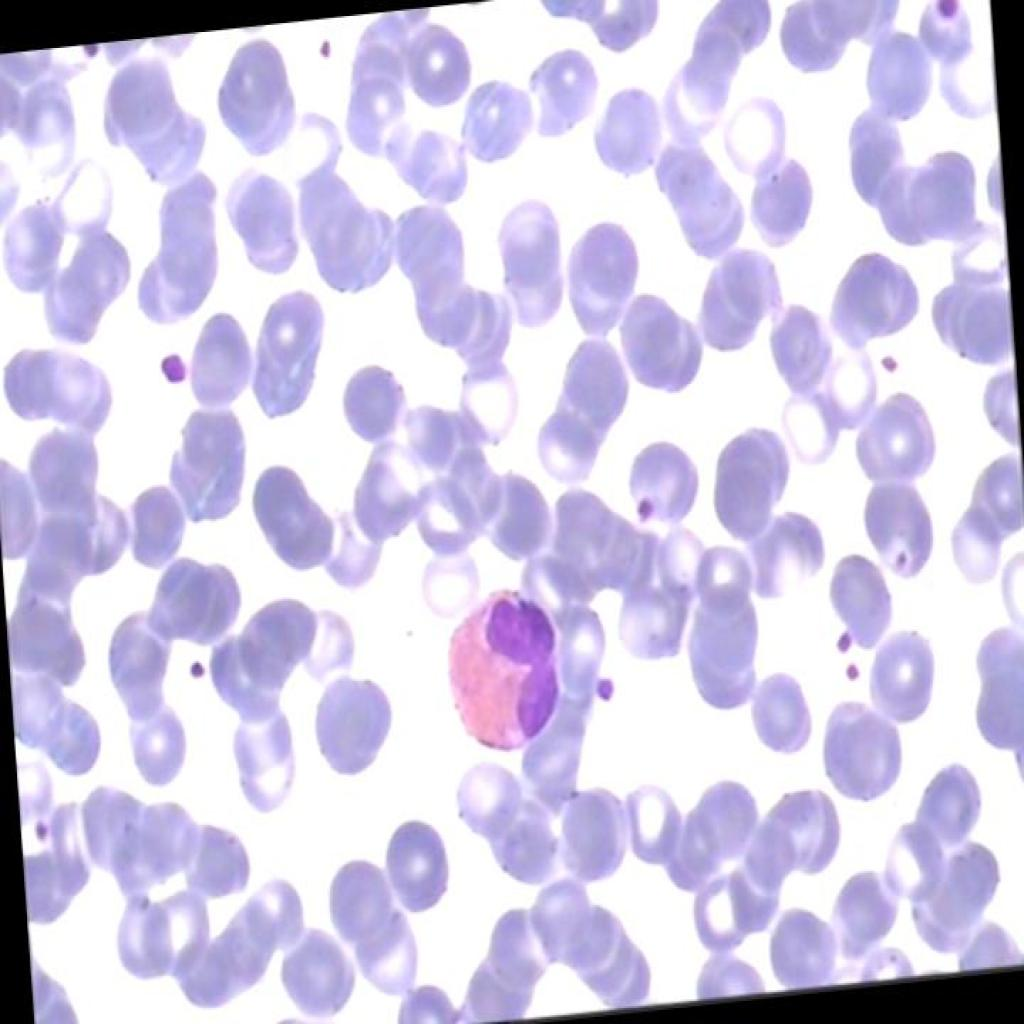Eosinofil: (438, 578, 573, 768)
Platelet: (150, 332, 190, 404), (875, 334, 917, 400), (838, 662, 884, 708), (816, 610, 856, 660), (307, 30, 350, 76), (932, 0, 977, 39), (175, 644, 210, 694), (617, 484, 660, 524), (590, 665, 622, 713), (27, 805, 57, 848), (67, 42, 105, 66), (885, 540, 906, 576)
